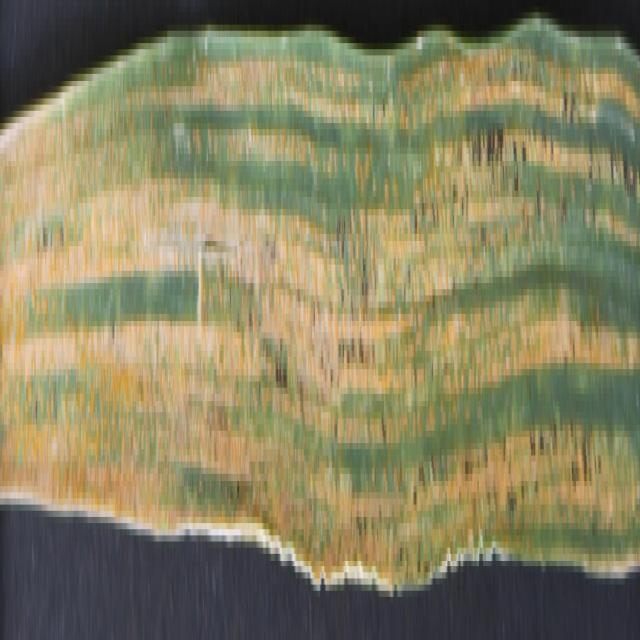leaf rust: (2, 68, 640, 542)
